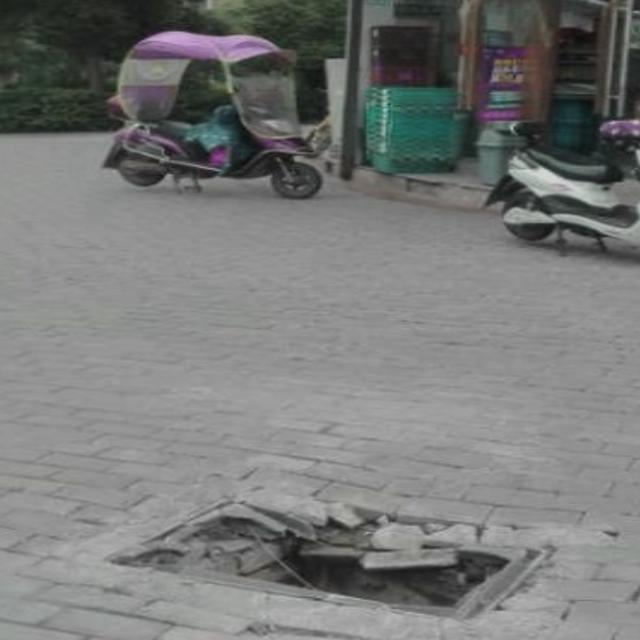broke: (101, 486, 556, 629)
